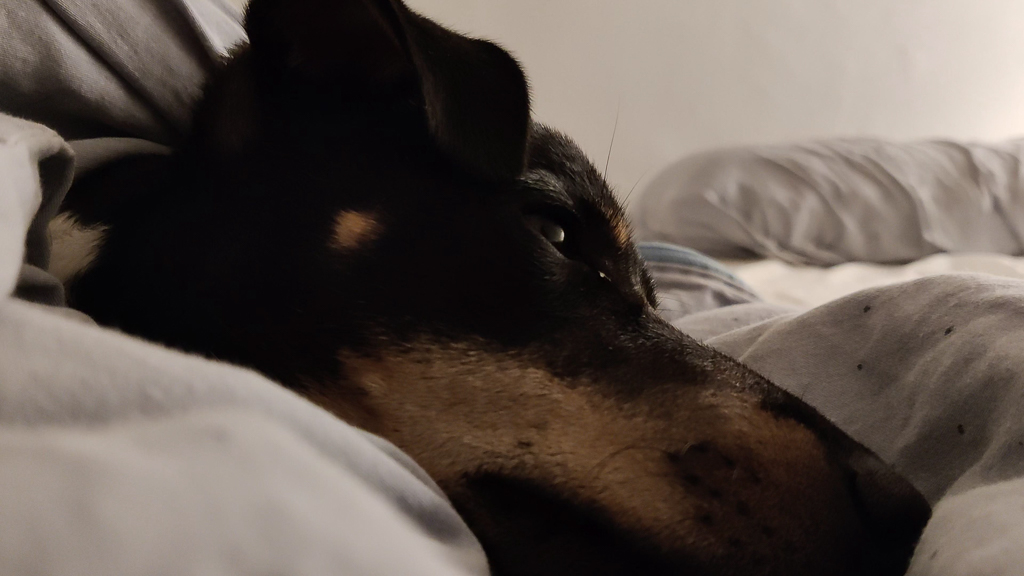Dog: (28, 0, 946, 576)
